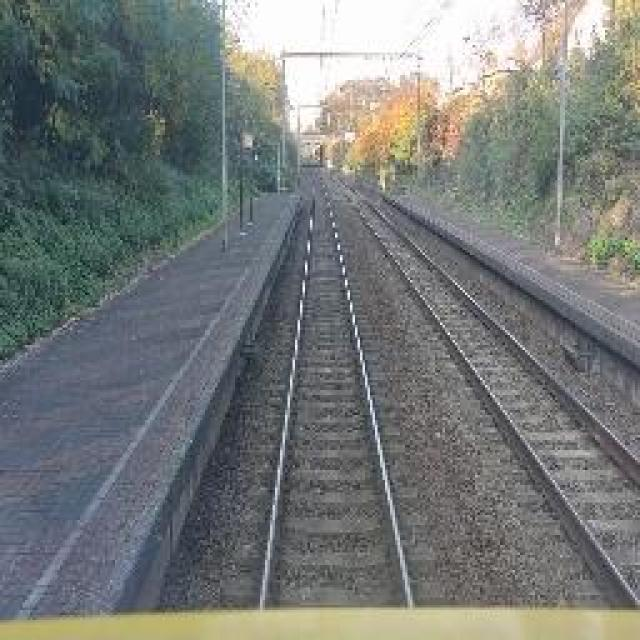rail: (219, 162, 441, 610)
